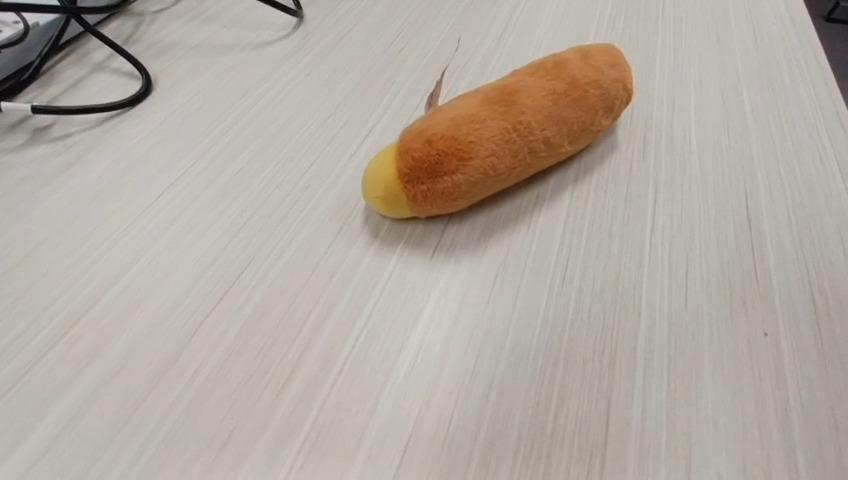hotdog: (360, 40, 634, 220)
